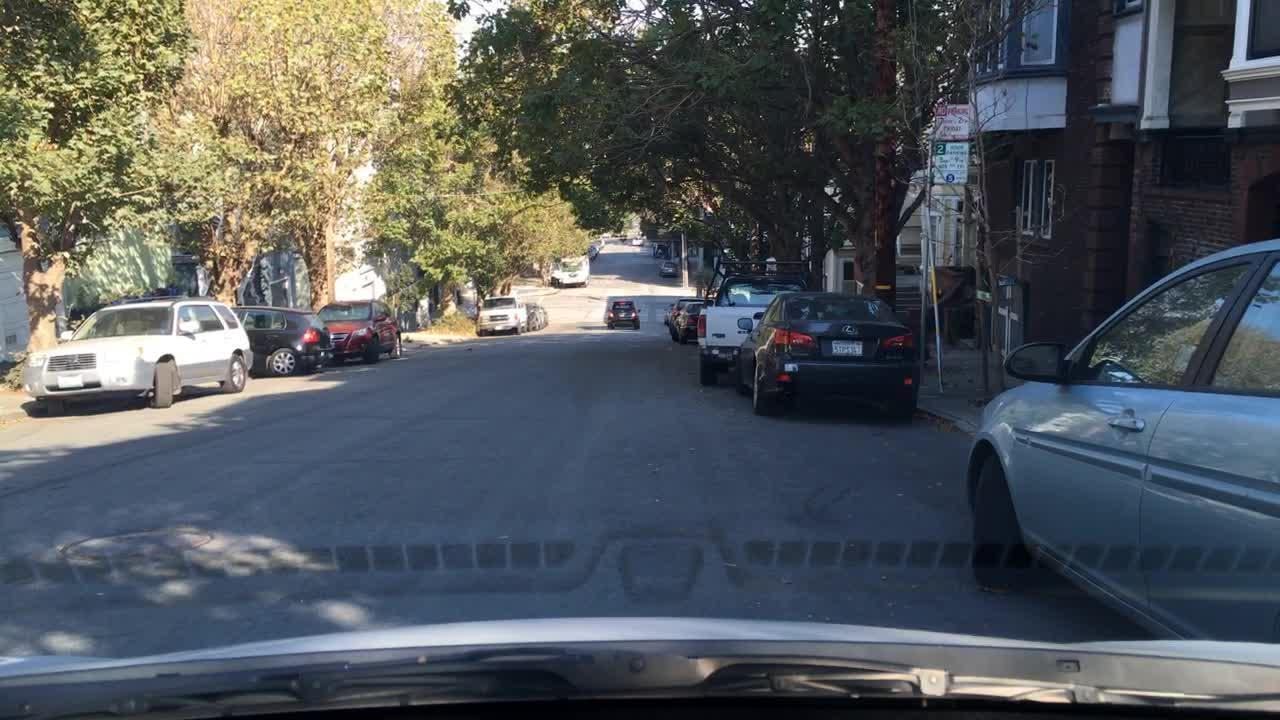lexus: (837, 320, 859, 338)
